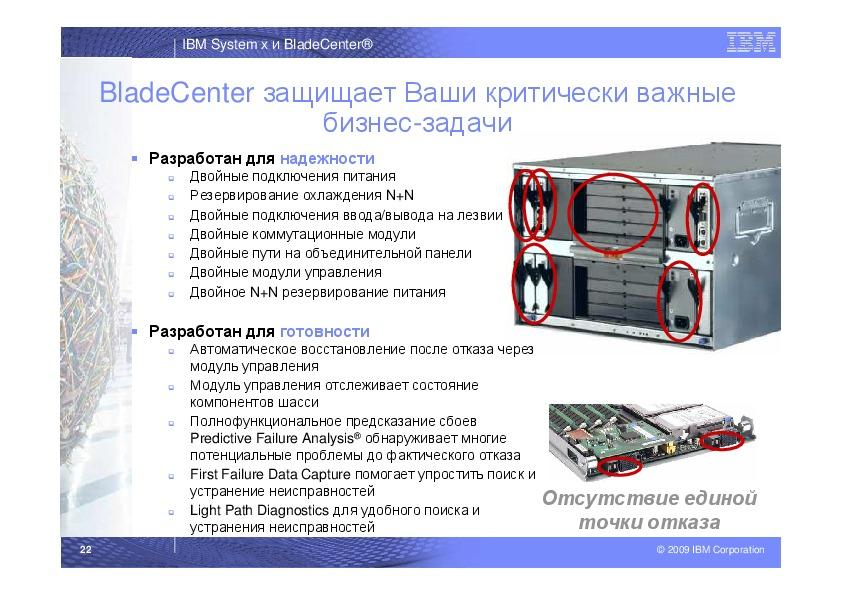paragraph: (159, 342, 546, 533), (109, 172, 579, 307)
subtitle: (86, 69, 747, 142), (125, 314, 374, 341), (129, 147, 389, 171)
title: (172, 27, 393, 62)
